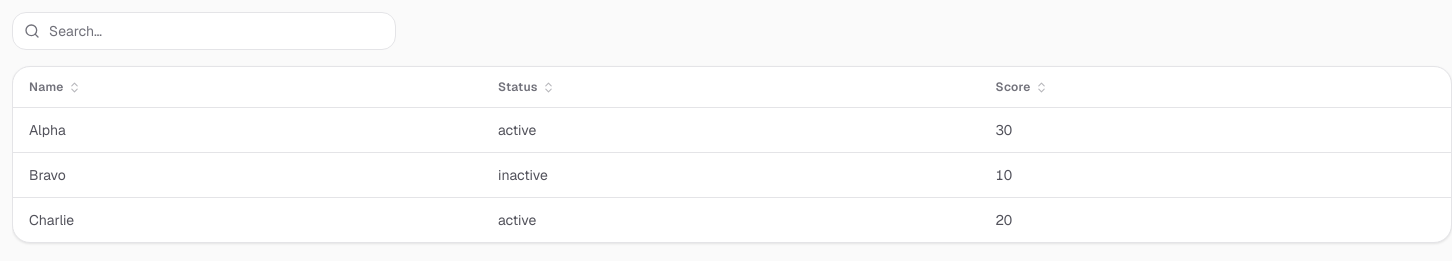
Test: DataTable › shows empty state when nothing matches
Type "zzz" into the field with placeholder "Search…" at [204, 31], box [12,12,396,50]
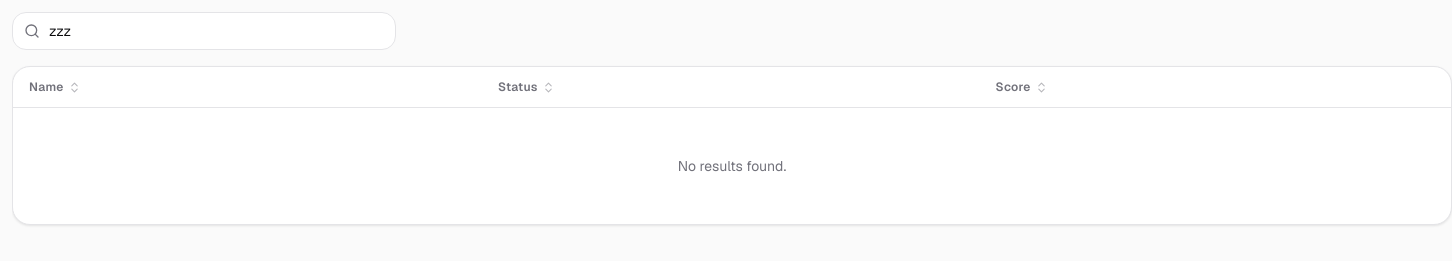
Now the text "No results found." is shown, box [678,157,786,175]
